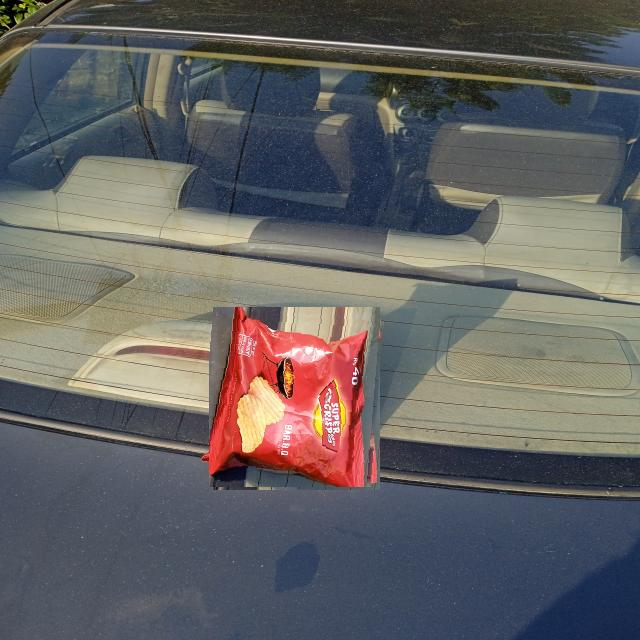Plastic: (209, 311, 384, 487)
